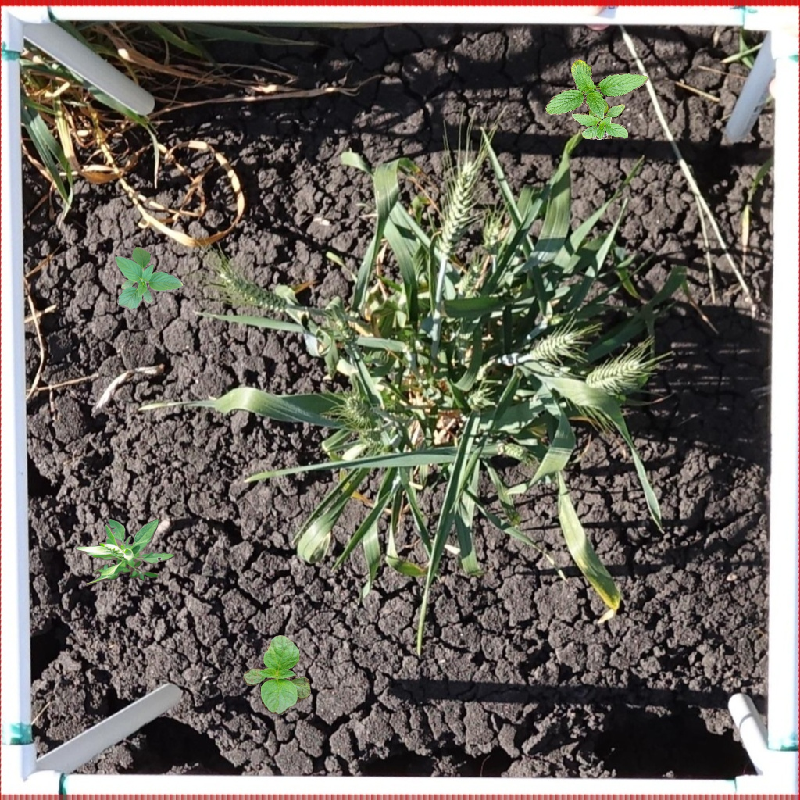spikelet: (432, 155, 481, 261), (465, 218, 503, 300), (582, 352, 651, 394), (224, 273, 293, 313), (358, 408, 413, 455), (524, 323, 583, 363), (339, 391, 375, 428)
weed: (544, 61, 659, 152), (75, 519, 175, 586), (243, 635, 311, 715), (114, 247, 185, 310)
